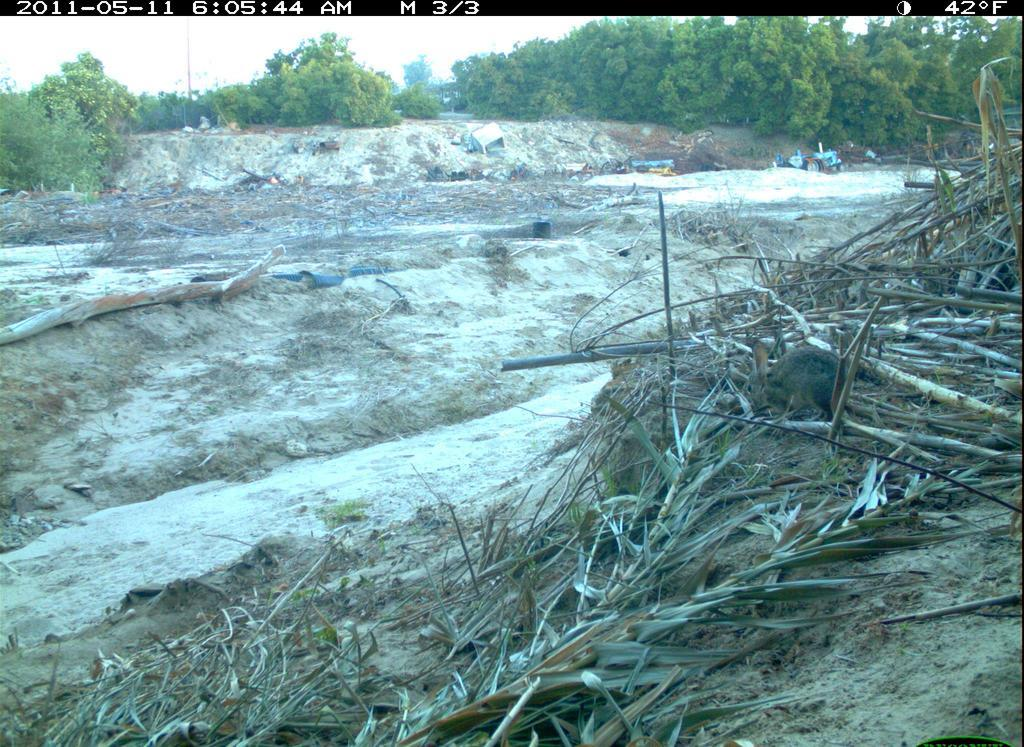rabbit: (738, 333, 862, 429)
